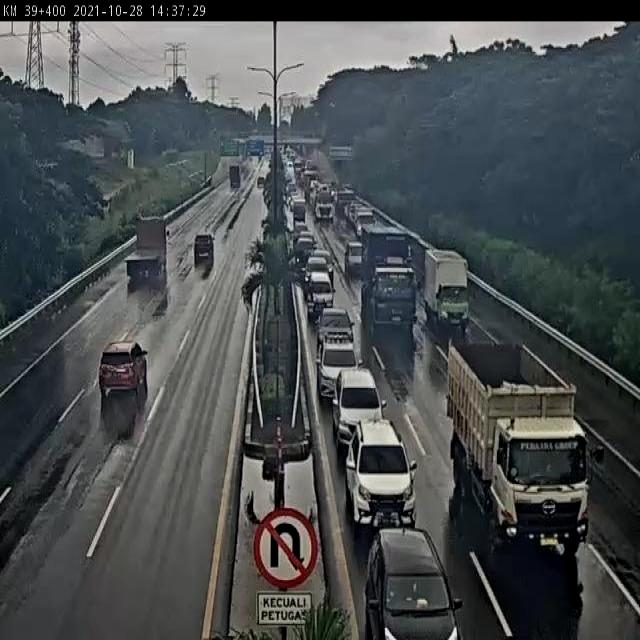Car: (362, 525, 466, 640), (343, 418, 417, 527), (332, 369, 384, 451), (316, 333, 359, 402), (98, 340, 149, 397), (316, 304, 355, 348), (305, 253, 332, 282), (344, 239, 364, 277), (353, 211, 376, 242), (294, 234, 316, 266), (194, 233, 214, 268), (256, 176, 265, 185)
Truck: (443, 332, 608, 554), (363, 226, 422, 334), (421, 247, 474, 332), (123, 212, 170, 282), (313, 192, 335, 220), (334, 188, 356, 213), (229, 162, 242, 188), (293, 198, 306, 224)
Van: (304, 269, 334, 318)
